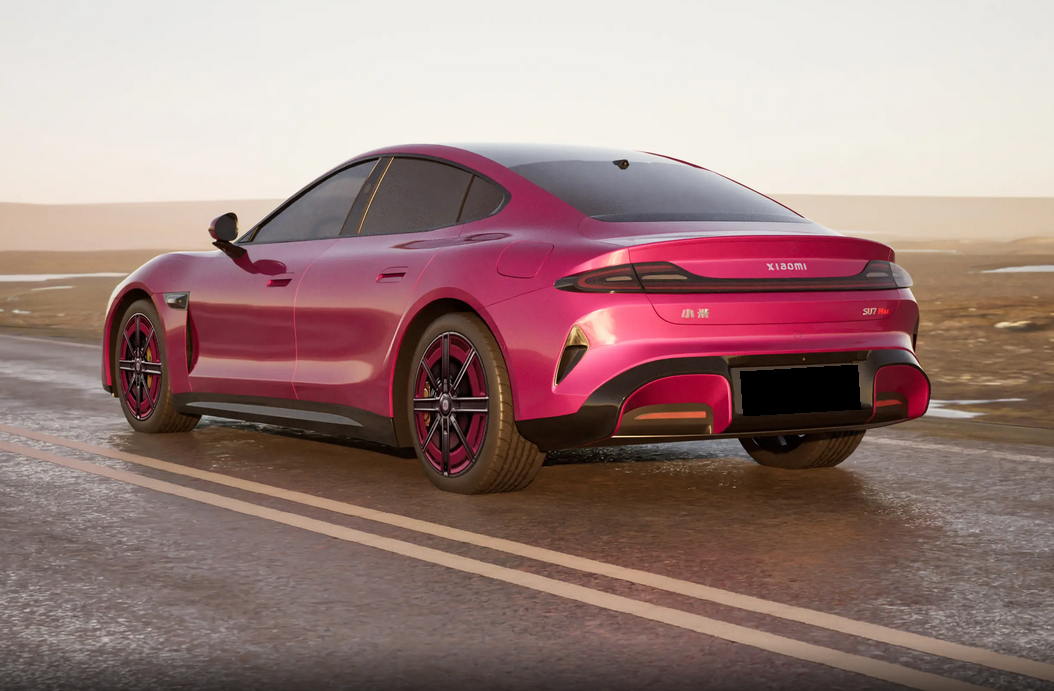su7: (91, 142, 940, 513)
